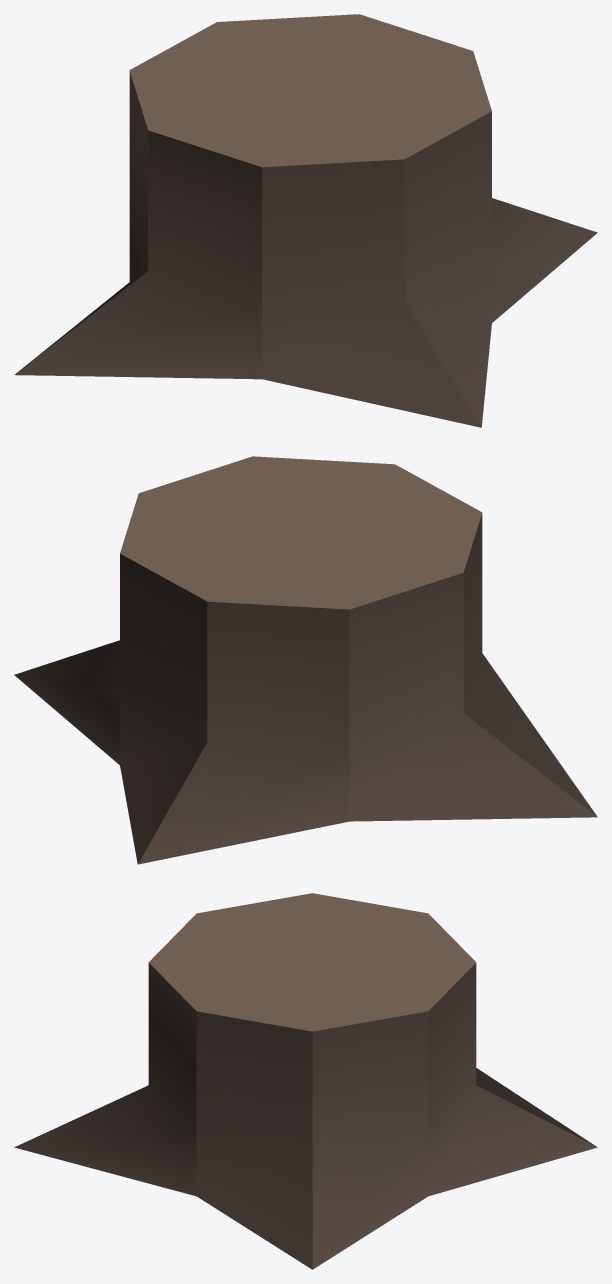
Rendered from Stump.fbx.
The picture shows the model from 3 angles, top to bottom: view 1: azimuth 30°, elevation 25°; view 2: azimuth 150°, elevation 25°; view 3: azimuth 270°, elevation 25°; orthographic projection. The views are drawn at different scales.
Parts seen in each view (by area): view 1: pCylinder2; view 2: pCylinder2; view 3: pCylinder2.
Boxes of the visible parts, x1,y1,x2,y2 form: pCylinder2: (14,14,597,427); pCylinder2: (14,456,597,864); pCylinder2: (14,893,597,1269).
Size of the model in its own units: 1.95 by 0.6778 by 1.94.
